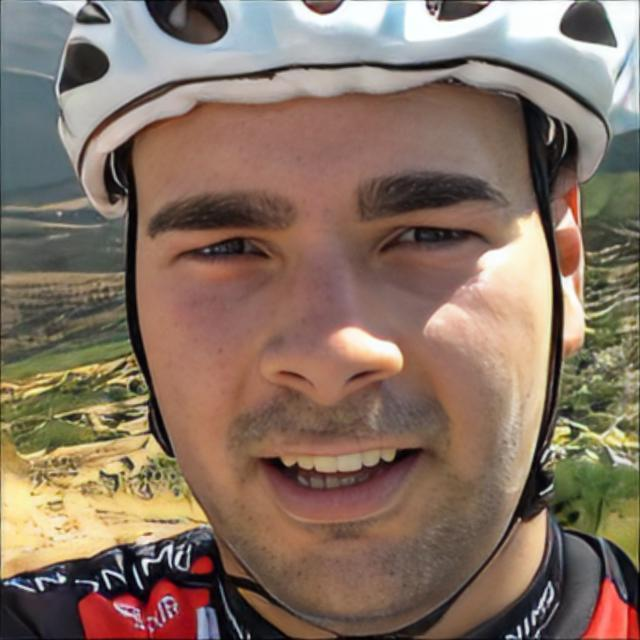disgust: (128, 75, 550, 622)
